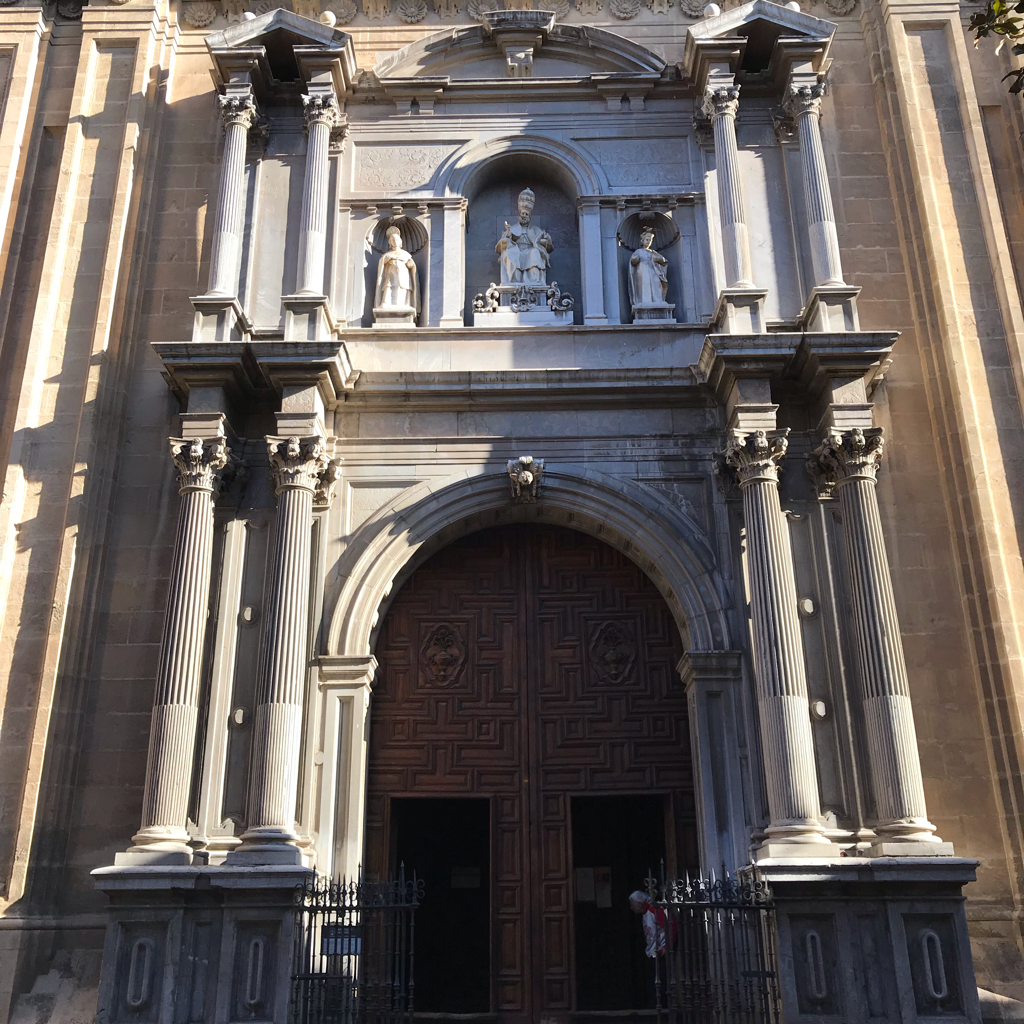arco-medio-punto: (346, 491, 711, 715), (456, 139, 593, 221)
fronton-partido: (379, 22, 670, 92), (682, 4, 845, 52), (205, 9, 347, 57)
serliana: (334, 128, 714, 323)
